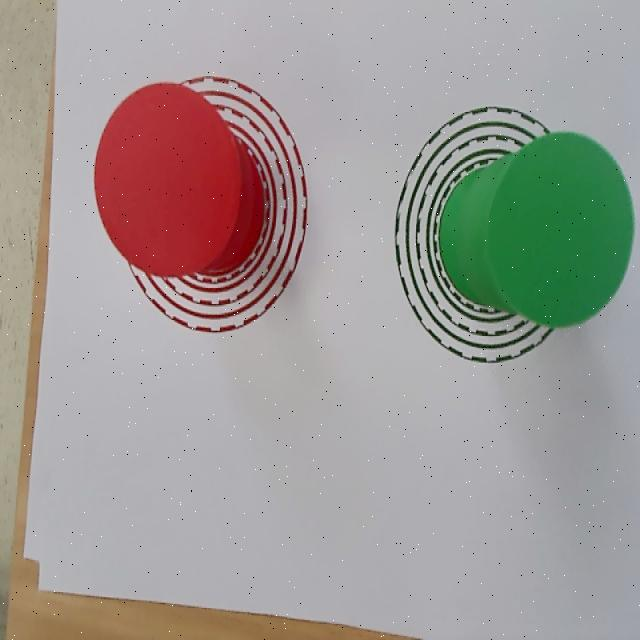g: (484, 130, 634, 324)
r: (95, 80, 239, 277)
